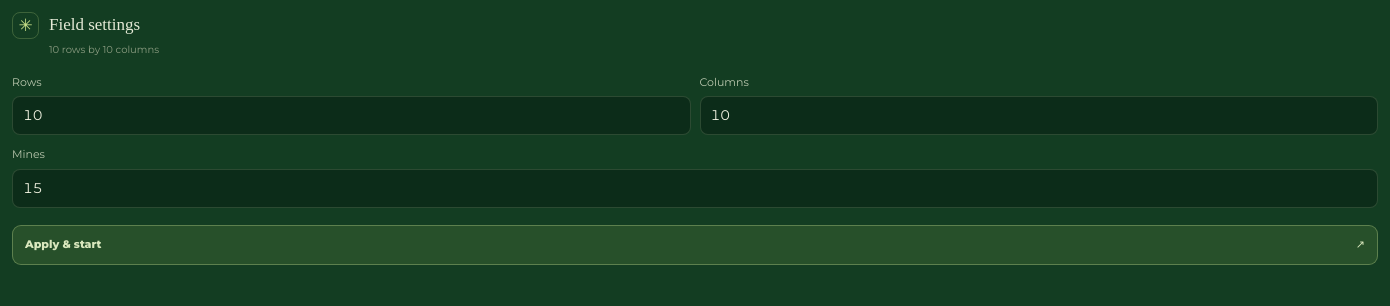
Test: SettingsForm › shows validation errors and does not apply an invalid board
The width and height of the screenshot is (1390, 306).
Replace the text in the number field labelled "Rows" with "9" at (351,116), box [12,96,690,135]
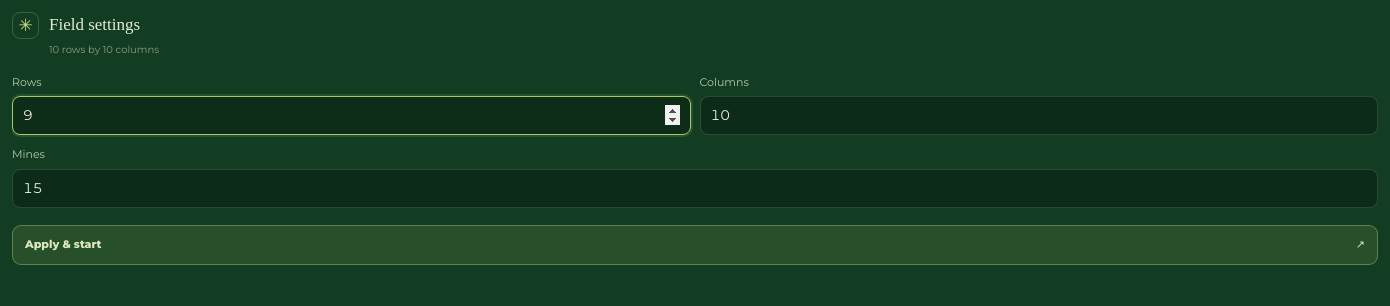
Click the button "Apply & start ↗" at (63,244), box [12,224,1378,264]
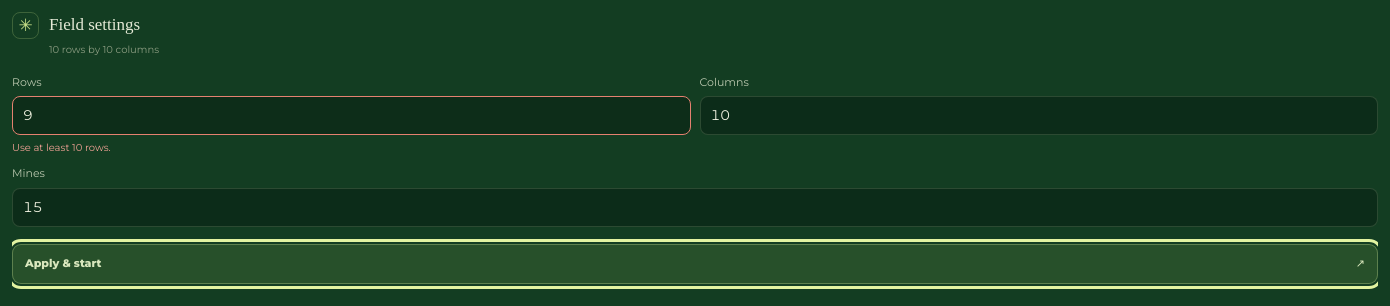
Expected: the message reads "Use at least 10 rows.", [12,141,111,154]
